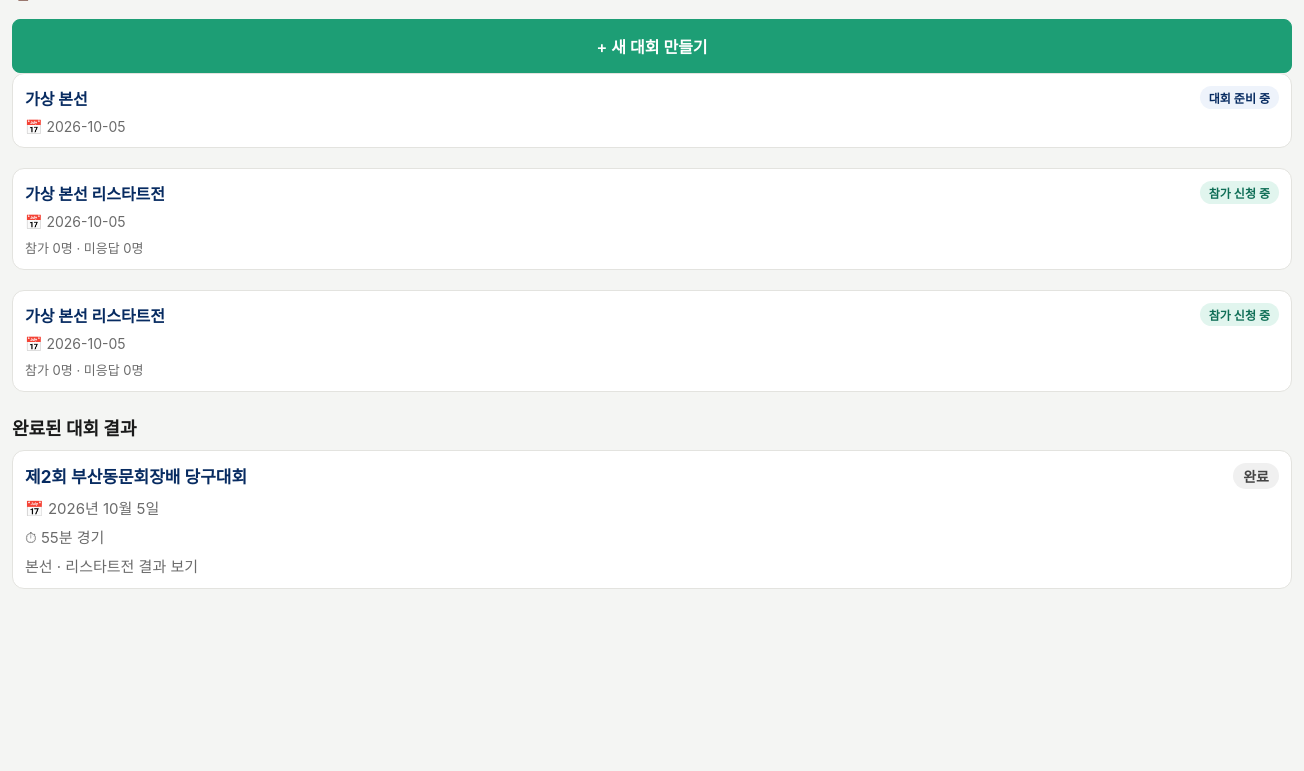
Test case: 리스타트 대회 자동 연결 (이름 규칙: 본선 이름 + " 리스타트전") › 같은 이름 대회가 여러 개고 날짜로도 못 가리면 아무것도 고르지 않고 중단한다
Click the text "가상 본선". click: coordinates (56, 98)
box: left=25, top=86, right=88, bottom=110
(page scrolled)
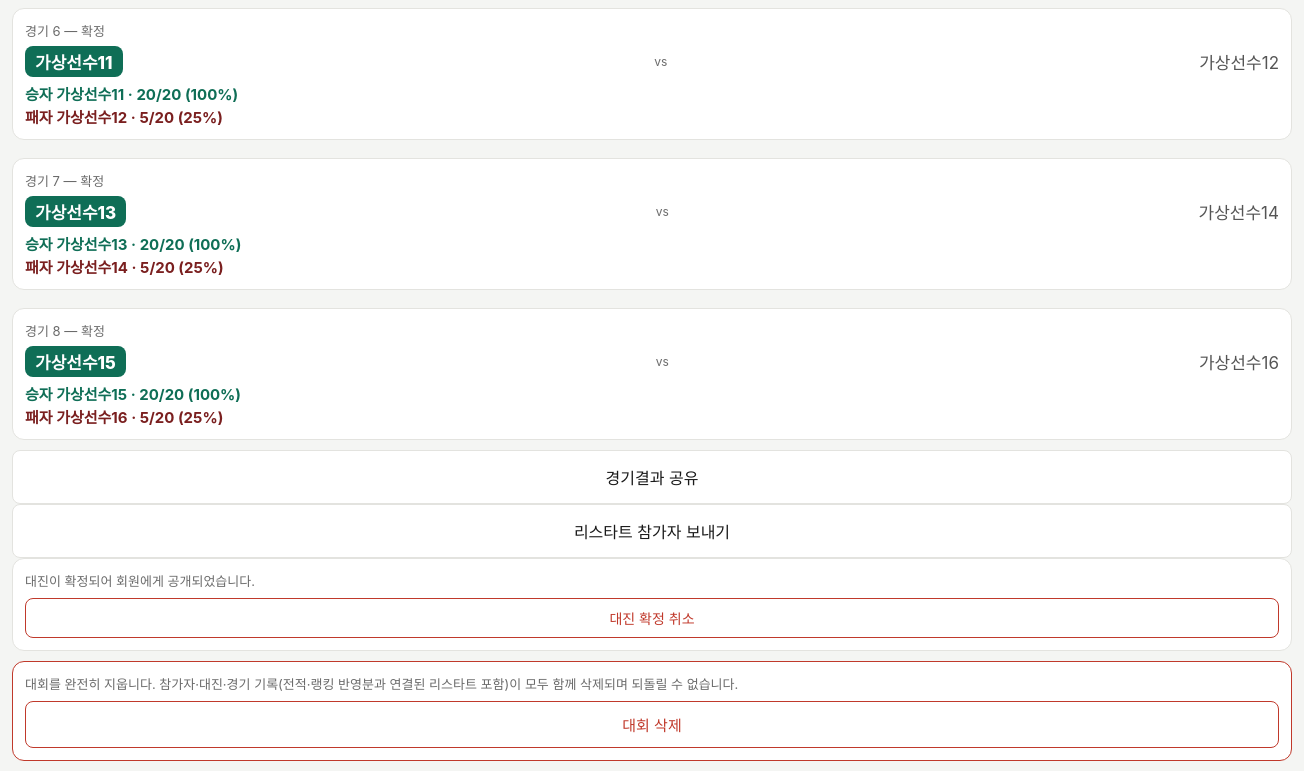
Click the button "리스타트 참가자 보내기". click: coordinates (652, 531)
box: left=12, top=504, right=1292, bottom=558
(page scrolled)
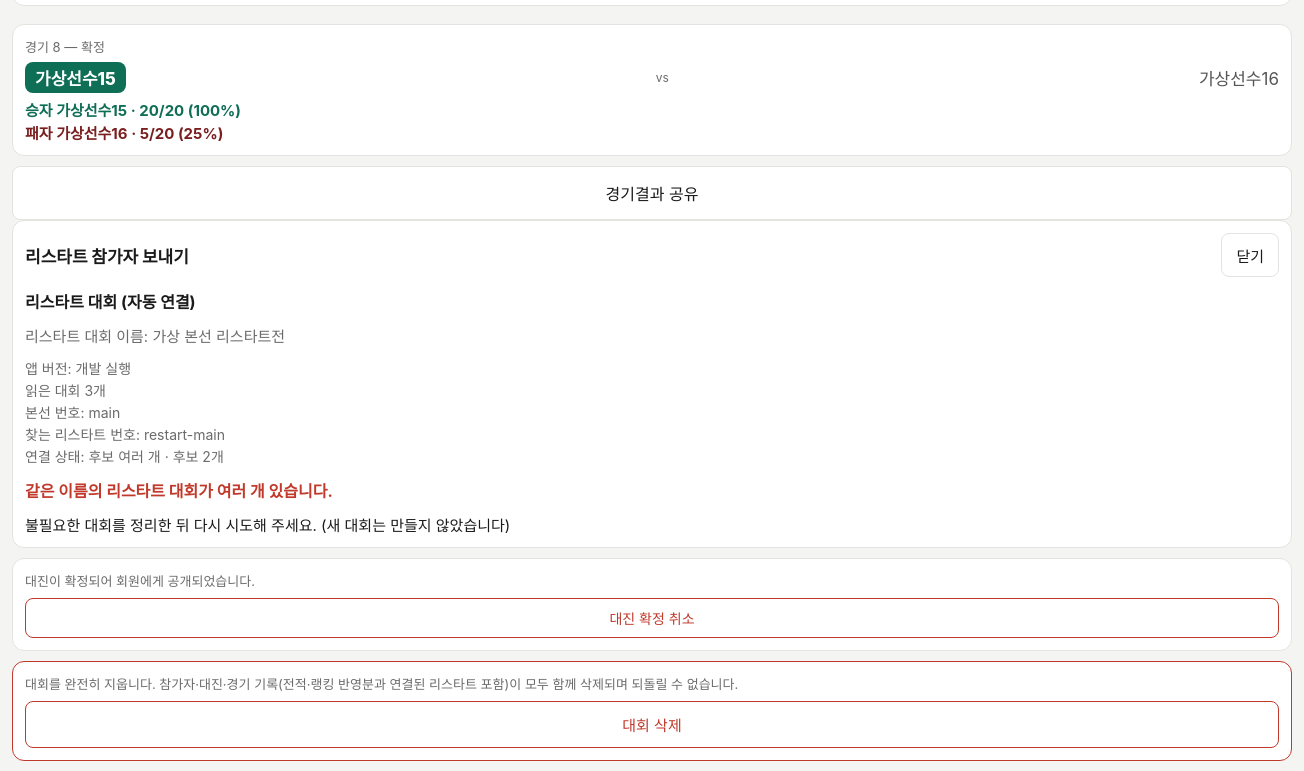
Check: the text "같은 이름의 리스타트 대회가 여러 개 있습니다." is shown, box left=25, top=481, right=333, bottom=501
